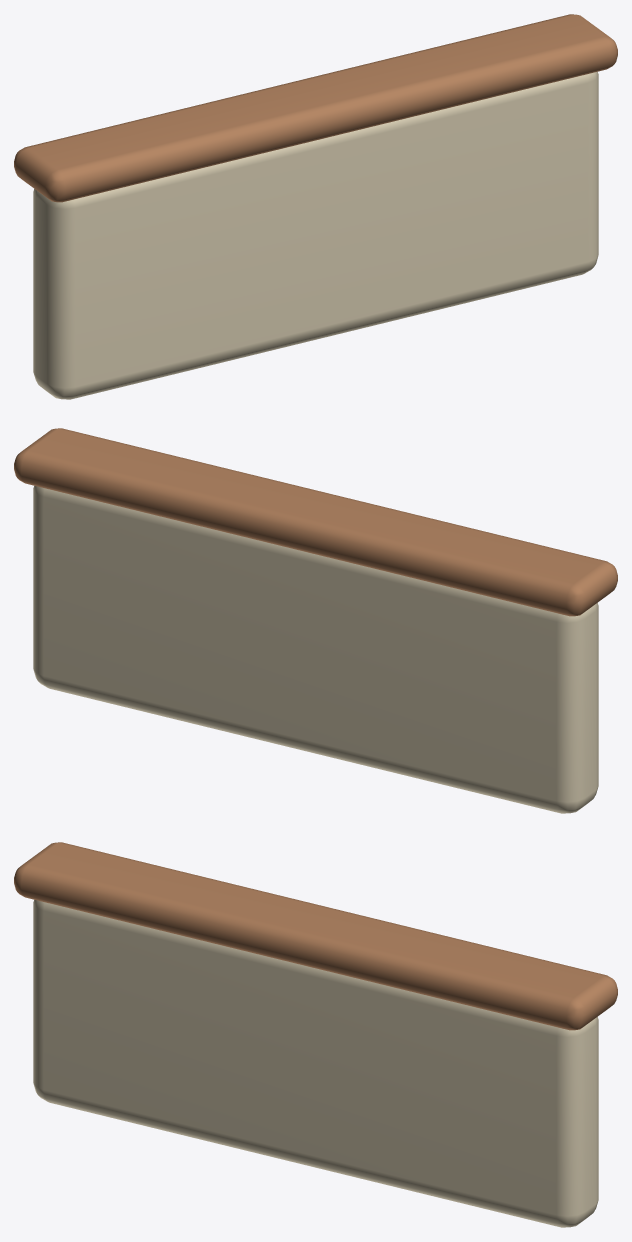
The model's file is low_wall.glb.
The picture shows the model from 3 angles, top to bottom: view 1: azimuth 30°, elevation 25°; view 2: azimuth 150°, elevation 25°; view 3: azimuth 330°, elevation 25°; orthographic projection.
Parts seen in each view (by area): view 1: Body_cream, Body_wood; view 2: Body_cream, Body_wood; view 3: Body_cream, Body_wood.
Part boxes in pixels (x1=…): Body_cream: x1=33, y1=72, x2=598, y2=399; Body_wood: x1=14, y1=14, x2=617, y2=202; Body_cream: x1=33, y1=486, x2=598, y2=813; Body_wood: x1=14, y1=428, x2=617, y2=616; Body_cream: x1=33, y1=900, x2=598, y2=1227; Body_wood: x1=14, y1=842, x2=617, y2=1030.
Bounding box in the file's own units: 1.87 × 0.75 × 0.25.
